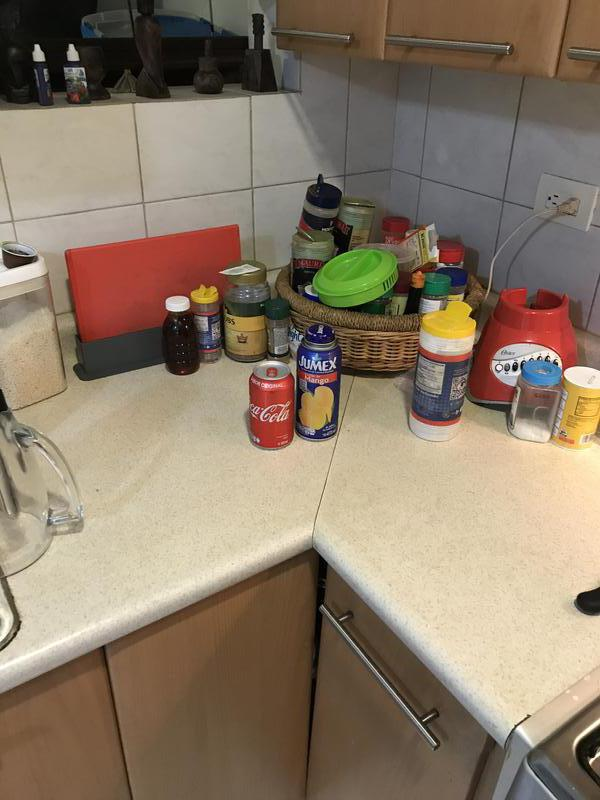coca_cola: (249, 360, 296, 452)
jugo_jumex: (294, 324, 341, 444)
